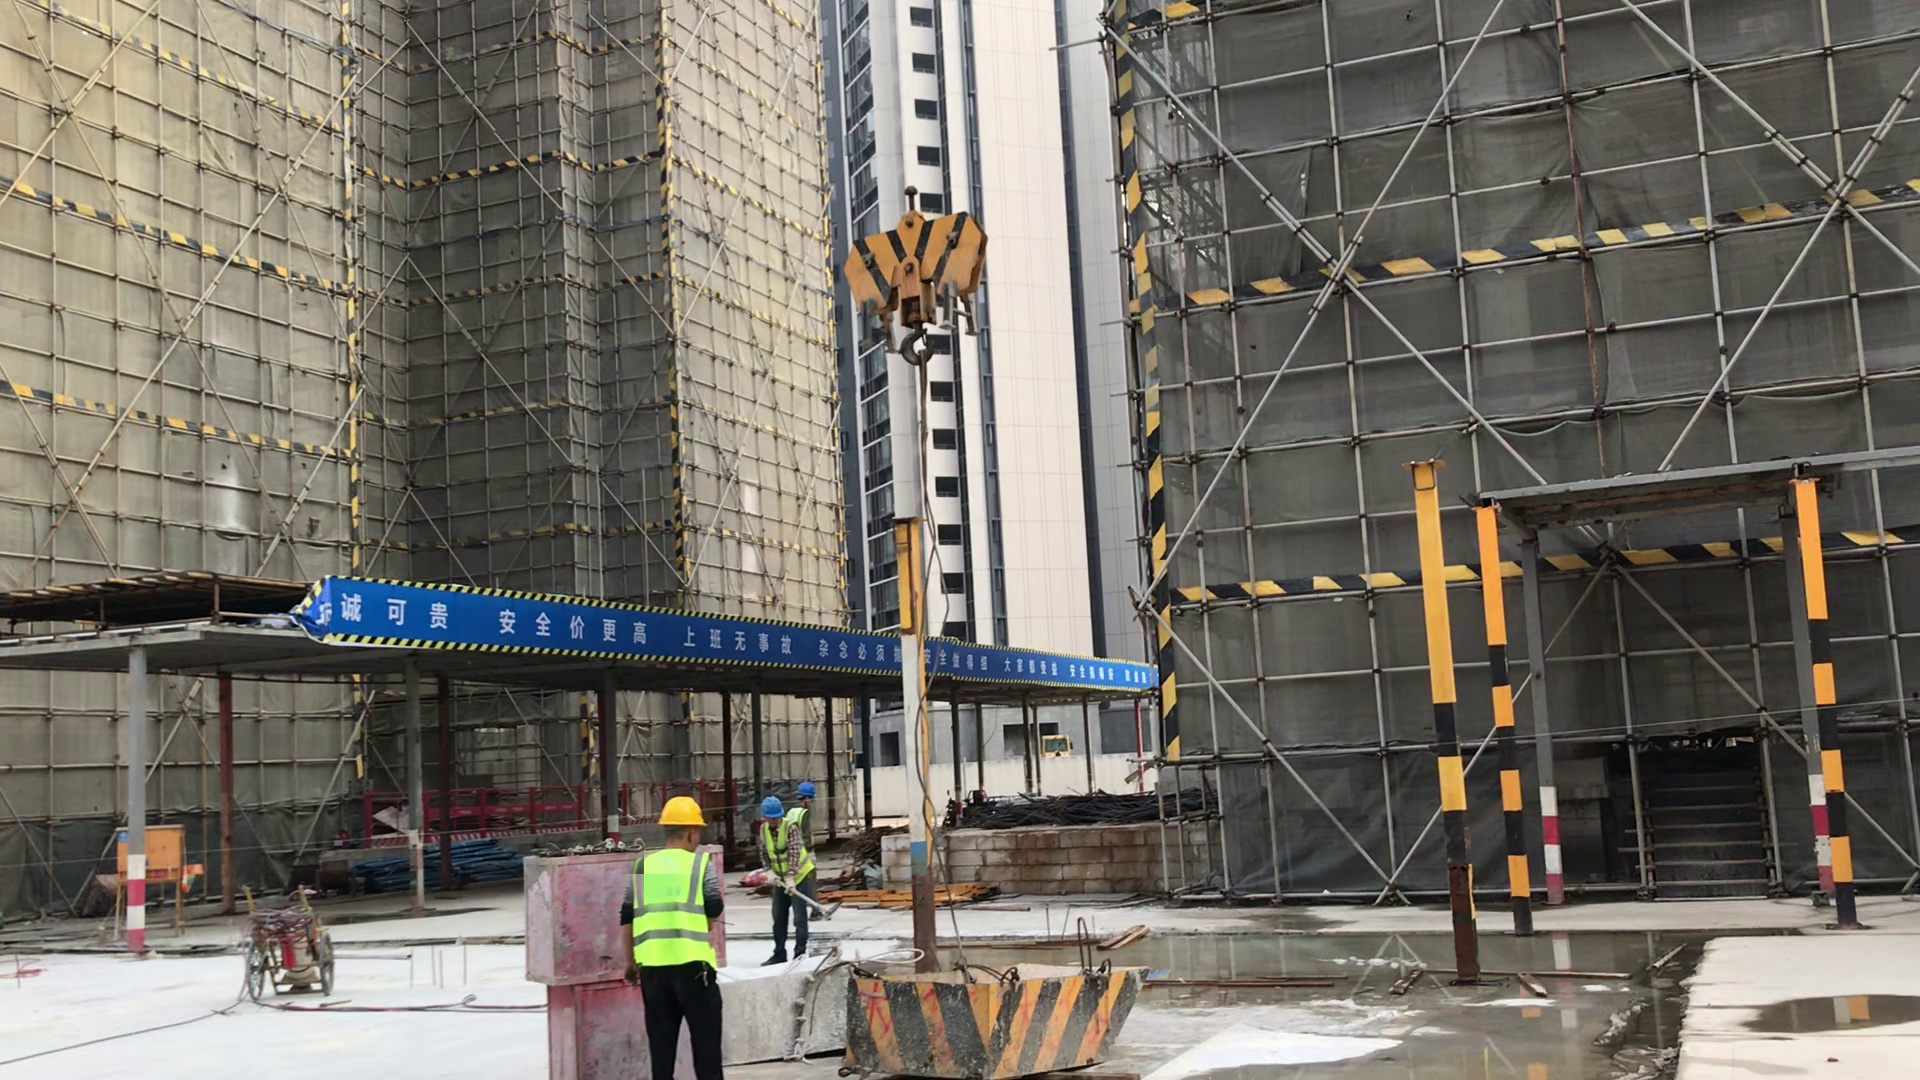ebox: (119, 824, 185, 874)
fence: (369, 783, 663, 850)
handcart: (236, 880, 335, 1003)
helmet: (658, 795, 707, 829), (758, 796, 785, 820), (795, 782, 816, 797)
hook: (843, 188, 986, 368)
hopper: (847, 965, 1146, 1080), (729, 956, 866, 1080)
person: (621, 795, 725, 1080), (757, 796, 816, 968), (785, 782, 817, 853)
slogan: (312, 569, 1151, 700)
vest: (632, 849, 719, 971), (762, 821, 814, 883)
